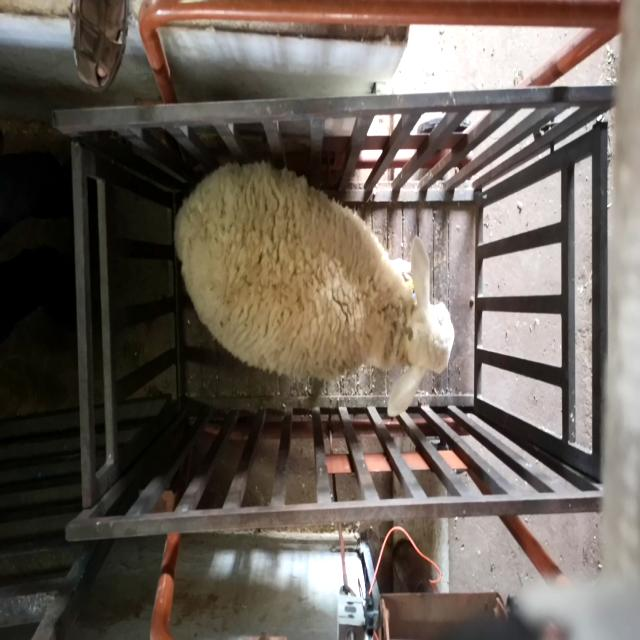sheep: (174, 161, 455, 418)
